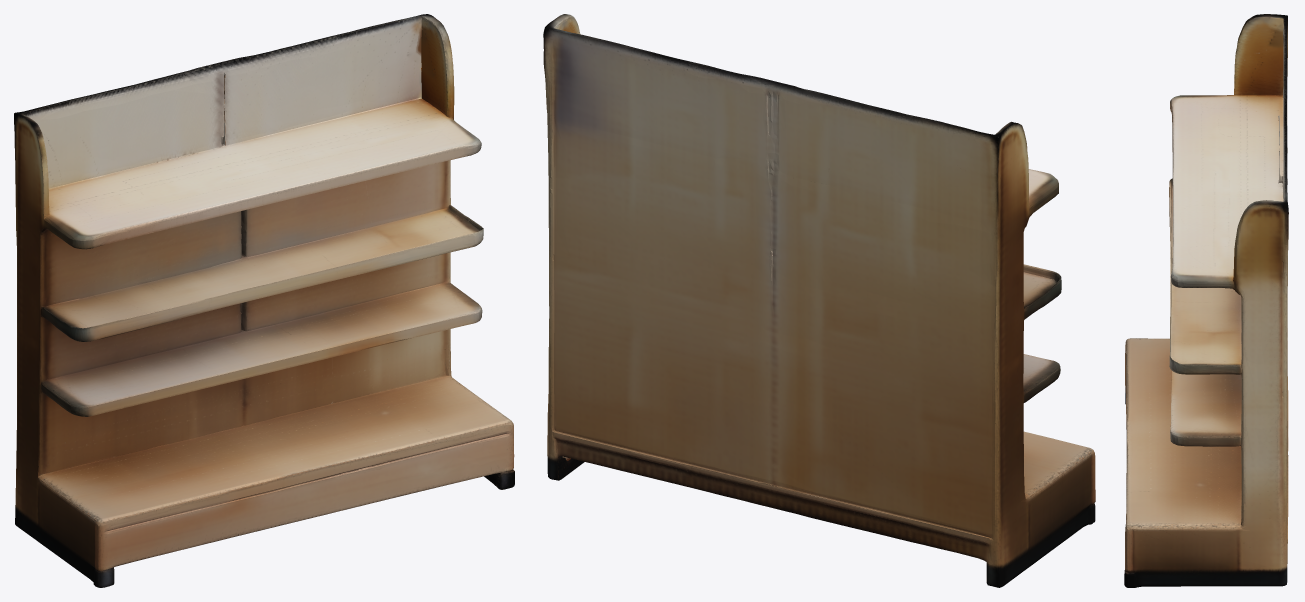
File: GroceryShelfUnit.glb
The picture shows the model from 3 angles, left to right: view 1: azimuth 30°, elevation 25°; view 2: azimuth 150°, elevation 25°; view 3: azimuth 270°, elevation 25°; orthographic projection. The views are drawn at different scales.
Parts seen in each view (by area): view 1: world; view 2: world; view 3: world.
Part boxes in pixels (bbox=[...]): world: bbox=[14, 14, 514, 587]; world: bbox=[543, 14, 1095, 587]; world: bbox=[1124, 14, 1288, 587].
Size of the model in its own units: 1 by 0.9462 by 0.3689.
1 material, 1 textured.
